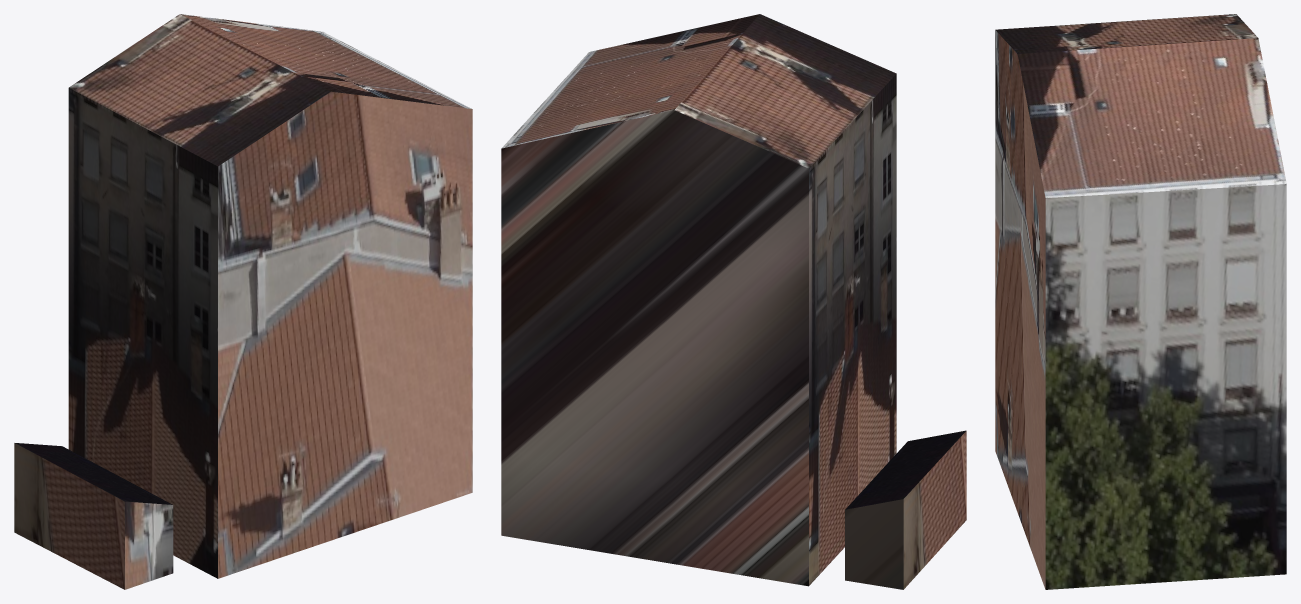
3 renders of one model, left to right at view 1: azimuth 30°, elevation 25°; view 2: azimuth 150°, elevation 25°; view 3: azimuth 270°, elevation 25°, orthographic. The views are drawn at different scales.
Parts seen in each view (by area): view 1: Z_UP; view 2: Z_UP; view 3: Z_UP.
Part boxes in pixels (bbox=[...]): Z_UP: bbox=[14, 14, 472, 589]; Z_UP: bbox=[501, 14, 966, 589]; Z_UP: bbox=[995, 14, 1286, 589].
Bounding box in the file's own units: 19.94 × 22.26 × 12.83.
Materials: 2 (1 with a texture image).
